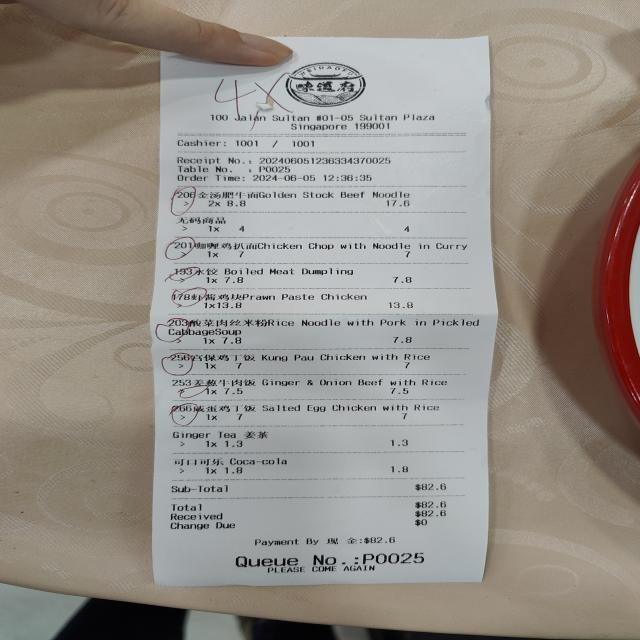bill_region: (157, 185, 486, 534)
